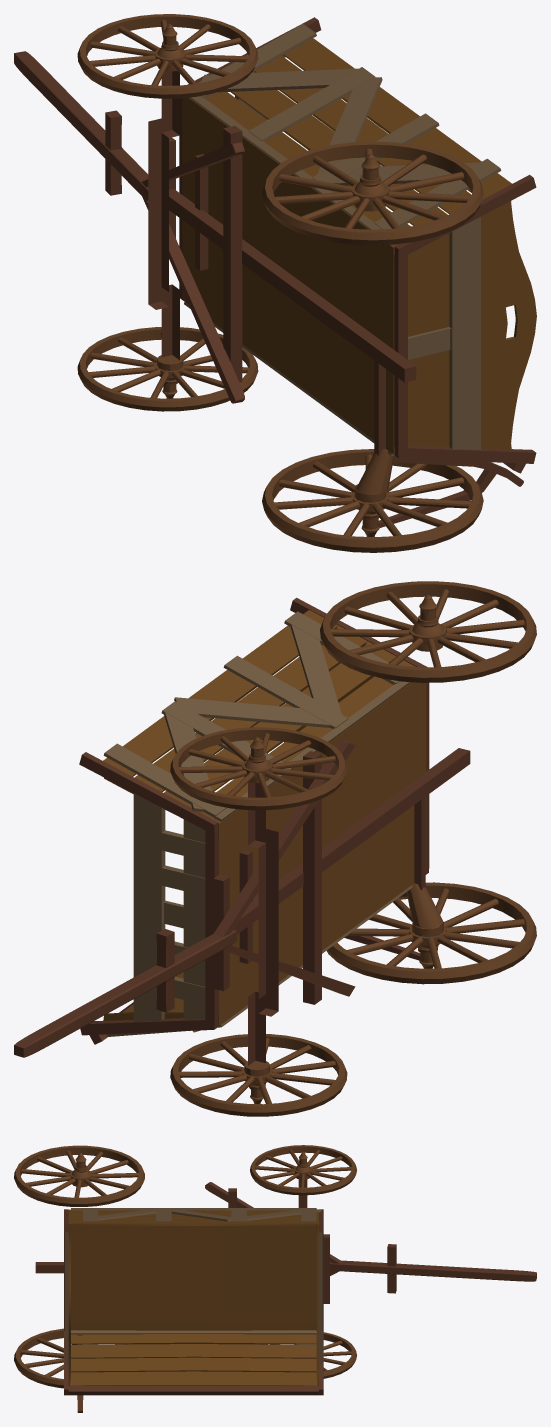
The model's file is Chariot.glb.
The picture shows the model from 3 angles, top to bottom: view 1: azimuth 30°, elevation 25°; view 2: azimuth 150°, elevation 25°; view 3: azimuth 270°, elevation 25°; orthographic projection. The views are drawn at different scales.
Visible parts, largest first — view 1: Roue; view 2: Roue; view 3: Roue.
Boxes of the visible parts, bbox=[...] form: Roue: bbox=[14, 14, 536, 552]; Roue: bbox=[14, 581, 536, 1116]; Roue: bbox=[14, 1145, 536, 1412].
Size of the model in its own units: 3.62 by 5.32 by 11.06.
